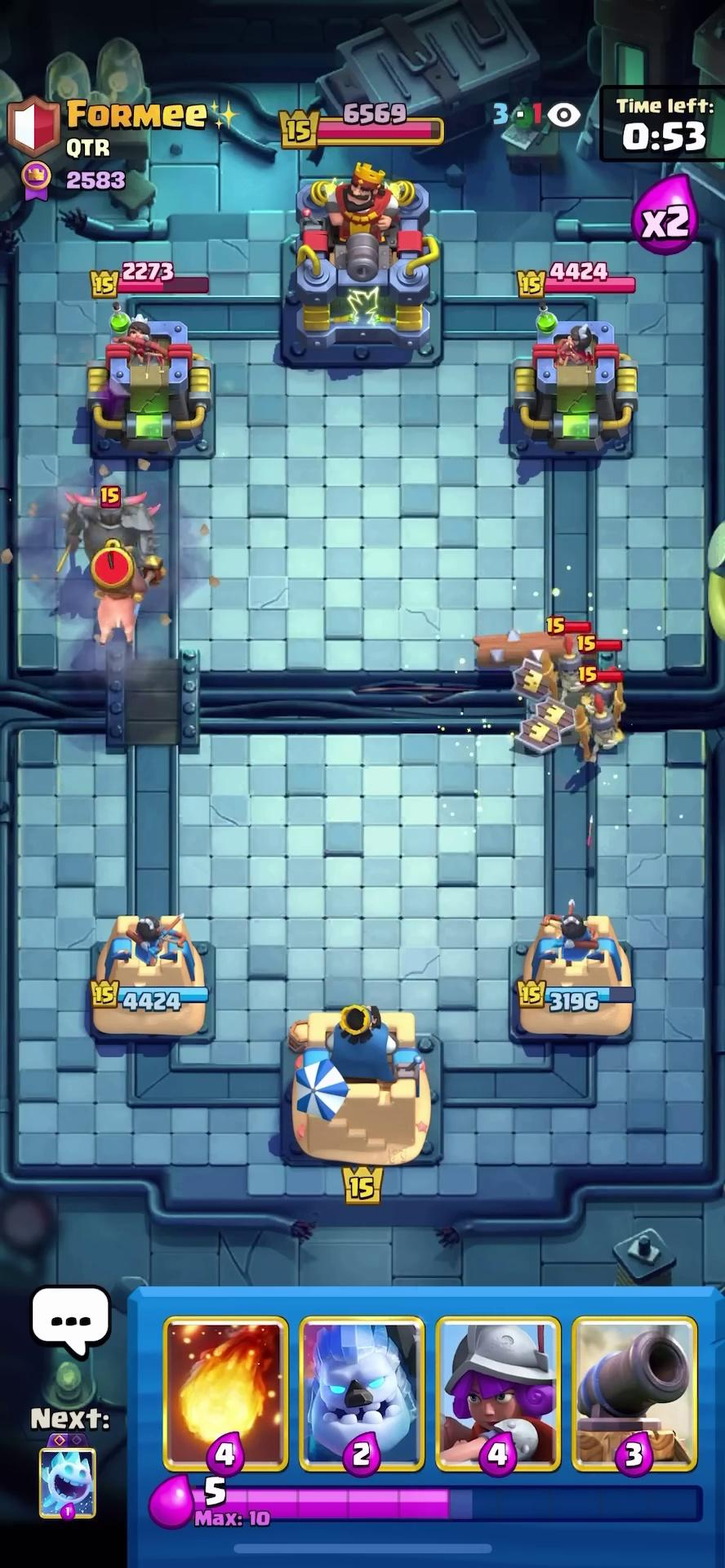hog_rider: (78, 547, 163, 659)
log: (465, 627, 598, 668)
